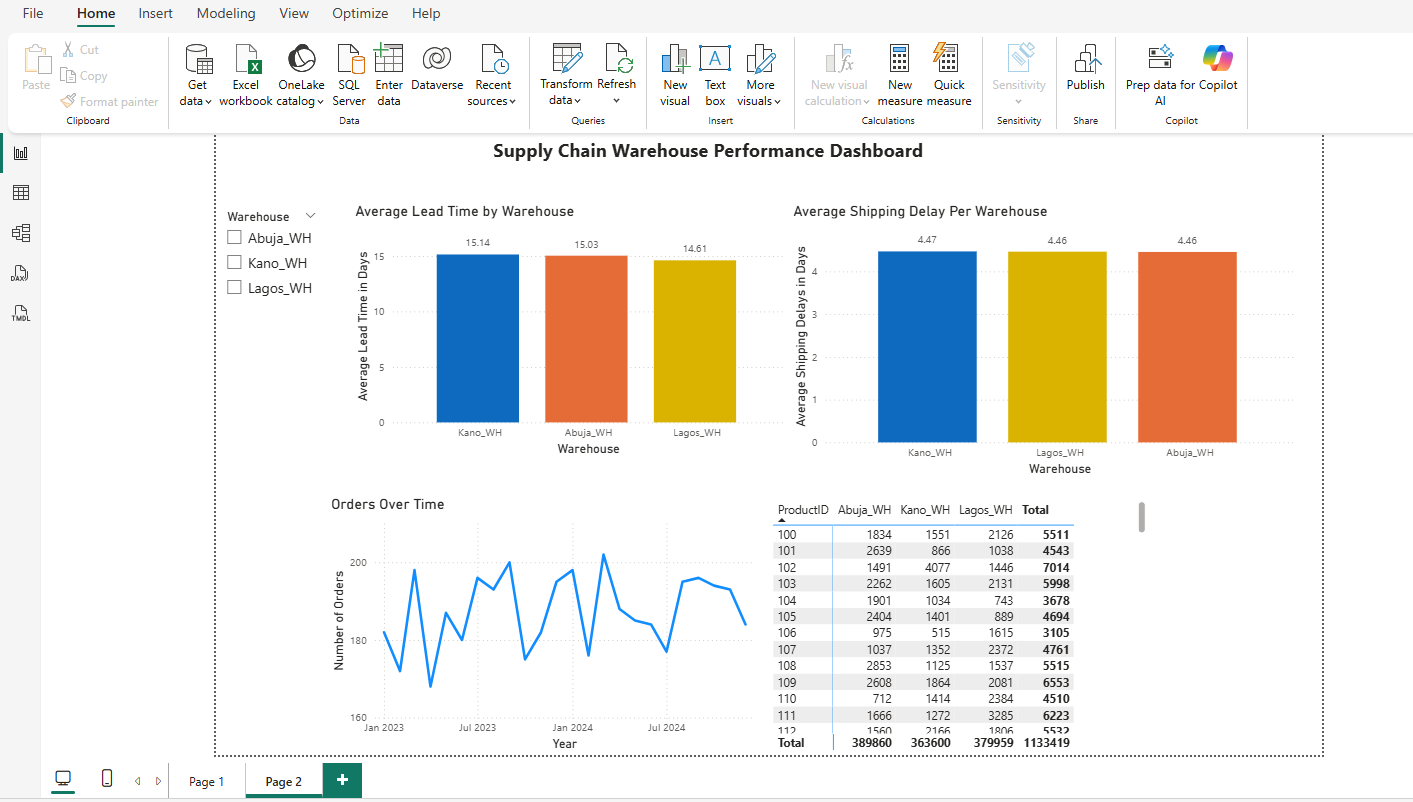

This screenshot's page, from the dashboard's own definition file:
{"tool":"powerbi","page":{"name":"Page 2","canvas":[1280,720],"ordinal":1},"visuals":[{"type":"pivotTable","fields":{"Rows":["Dashboard_data.ProductID"],"Columns":["Dashboard_data.Warehouse"],"Values":["Sum(Dashboard_data.OrderQuantity)"]},"box":[640,421.5,440.8,298.2],"z":0},{"type":"lineChart","title":"Orders Over Time","fields":{"Y":["CountNonNull(Dashboard_data.OrderID)"],"Category":["Dashboard_data.OrderDate.Variation.Date Hierarchy.Year","Dashboard_data.OrderDate.Variation.Date Hierarchy.Month"]},"box":[128.5,419,511.5,300.7],"z":1000},{"type":"columnChart","title":"Average Shipping Delay Per Warehouse","fields":{"Category":["Dashboard_data.Warehouse"],"Y":["Avg(Dashboard_data.ShippingDelayDays)"]},"box":[663.1,79.7,589.9,321.3],"z":2000},{"type":"columnChart","title":"Average Lead Time by Warehouse","fields":{"Category":["Dashboard_data.Warehouse"],"Y":["Avg(Dashboard_data.LeadTimeDays)"]},"box":[156.8,79.7,506.3,298.2],"z":3000},{"type":"slicer","fields":{"Values":["Dashboard_data.Warehouse"]},"box":[0,83.5,128.5,145.2],"z":4000},{"type":"textbox","box":[316.1,0,830.2,50.1],"z":5000}]}

Visuals, with their boxes on the page's 1280x720 design canvas (x1, y1, x2, y2). These are canvas units, not pixel positions in the 1413x802 screenshot, which may show the page scaled, cropped or inside an application window:
pivotTable - Dashboard_data.ProductID x Dashboard_data.Warehouse: (left=640, top=422, right=1081, bottom=720)
"Orders Over Time" lineChart: (left=128, top=419, right=640, bottom=720)
"Average Shipping Delay Per Warehouse" columnChart: (left=663, top=80, right=1253, bottom=401)
"Average Lead Time by Warehouse" columnChart: (left=157, top=80, right=663, bottom=378)
slicer - Dashboard_data.Warehouse: (left=0, top=84, right=128, bottom=229)
textbox: (left=316, top=0, right=1146, bottom=50)
